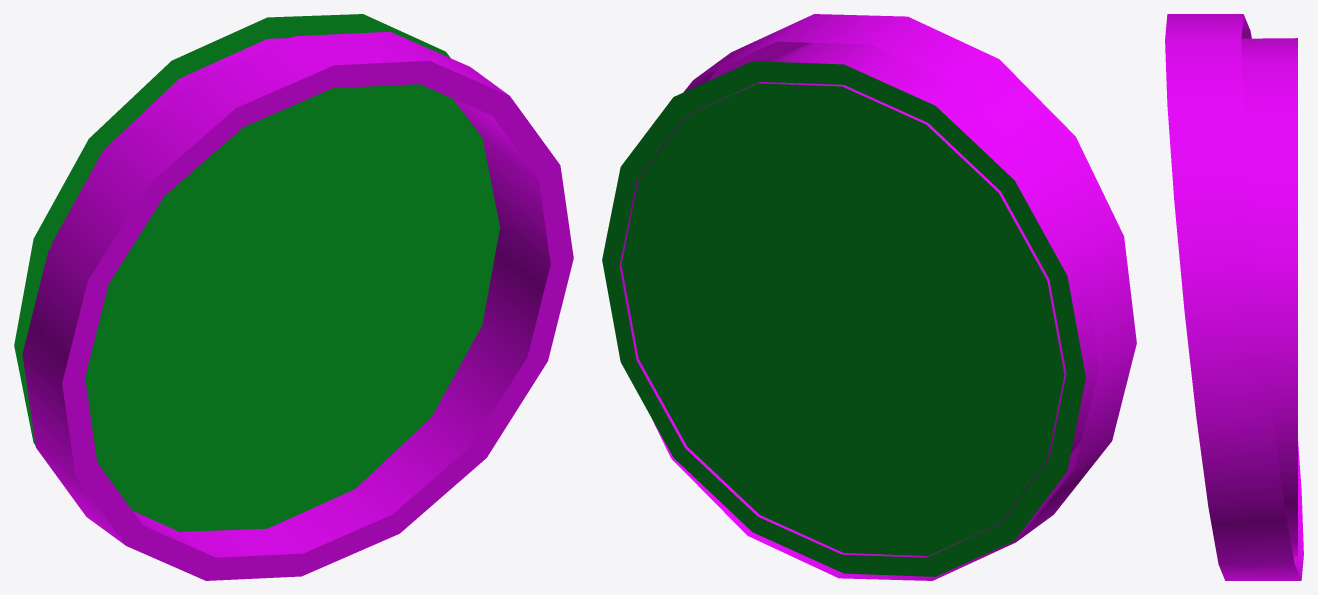
File: Fenetre_Ronde_Moyenne_01.fbx
3 renders of one model, left to right at view 1: azimuth 30°, elevation 25°; view 2: azimuth 150°, elevation 25°; view 3: azimuth 270°, elevation 25°, orthographic. The views are drawn at different scales.
Visible parts, largest first — view 1: Fenetre_Ronde_Moyenne_01_LOD0; view 2: Fenetre_Ronde_Moyenne_01_LOD0; view 3: Fenetre_Ronde_Moyenne_01_LOD0.
Boxes of the visible parts, x1=… form: Fenetre_Ronde_Moyenne_01_LOD0: x1=14, y1=14, x2=573, y2=580; Fenetre_Ronde_Moyenne_01_LOD0: x1=602, y1=14, x2=1136, y2=580; Fenetre_Ronde_Moyenne_01_LOD0: x1=1165, y1=14, x2=1303, y2=580.
Size of the model in its own units: 281 by 281 by 68.71.
